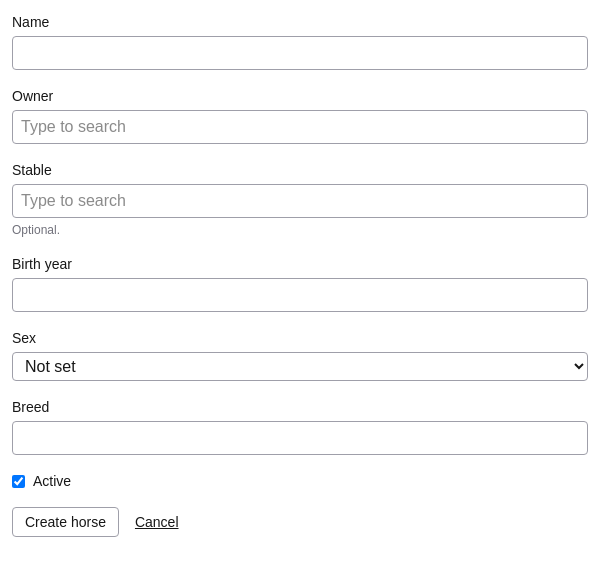
Test: creating a horse › the owner is not decided here: without one the field is left out and the backend's answer shows on the Owner control
The width and height of the screenshot is (605, 578).
Type "Kalle" into the field labelled "Name" at (300, 53), box x1=12 y1=36 x2=588 y2=70
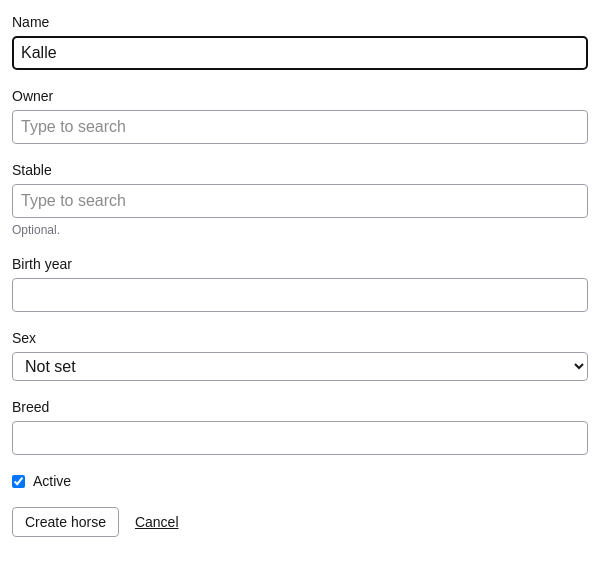
Click the button "Create horse" at (65, 522), box x1=12 y1=507 x2=119 y2=537
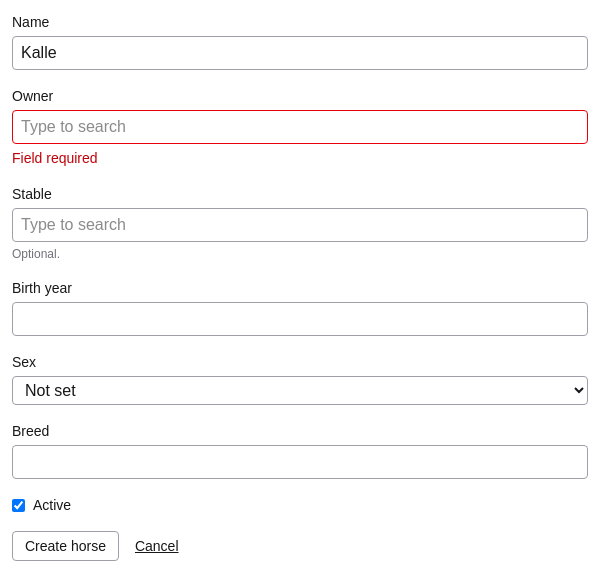
Now the text with test id "error-owner_customer_id" reads "Field required", box x1=12 y1=150 x2=98 y2=166
